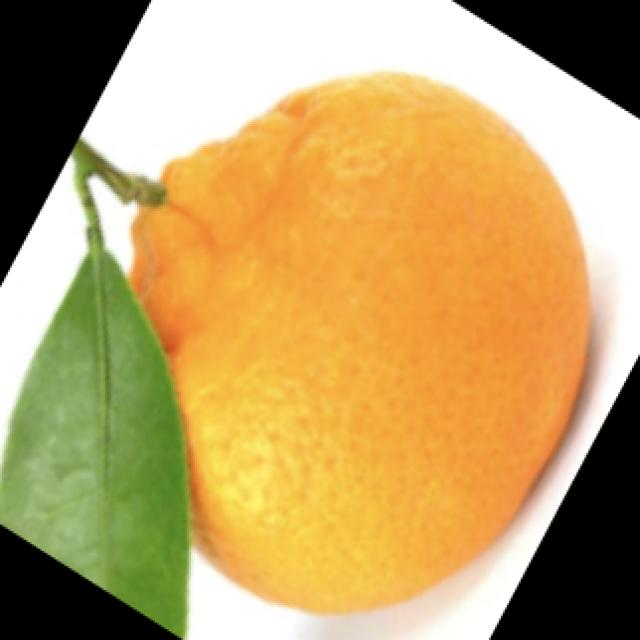fresh: (2, 61, 608, 606)
